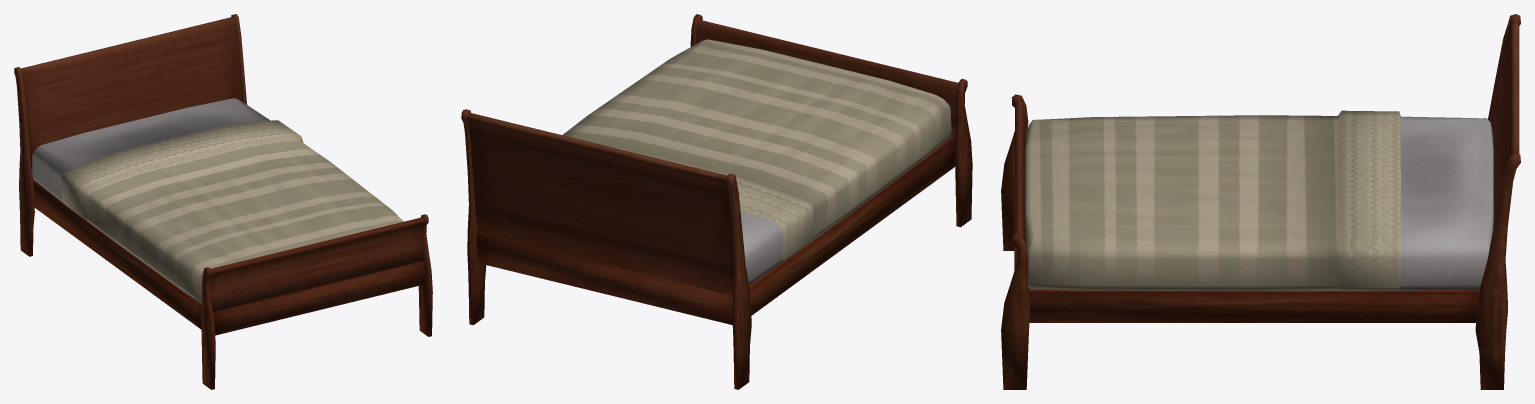
Rendered from product_5.obj.
3 renders of one model, left to right at view 1: azimuth 30°, elevation 25°; view 2: azimuth 150°, elevation 25°; view 3: azimuth 270°, elevation 25°, orthographic. The views are drawn at different scales.
Bounding box in the file's own units: 0.032 × 0.0248 × 0.0498.
Materials: 1 (1 with a texture image).
